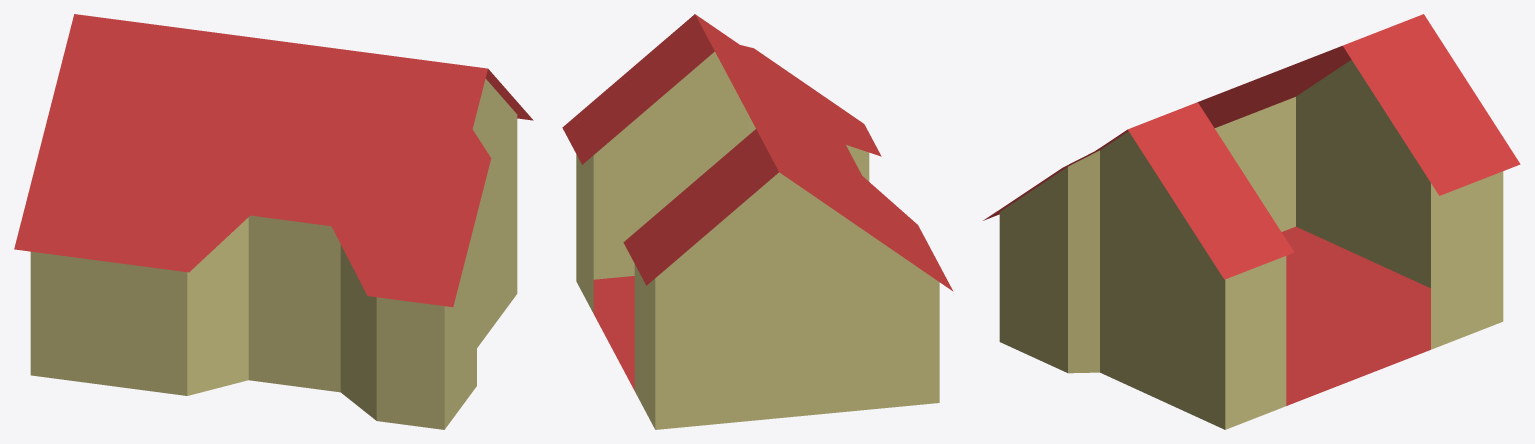
The picture shows the model from 3 angles, left to right: view 1: azimuth 30°, elevation 25°; view 2: azimuth 150°, elevation 25°; view 3: azimuth 270°, elevation 25°; orthographic projection. The views are drawn at different scales.
Size of the model in its own units: 20.98 by 21.89 by 11.82.
